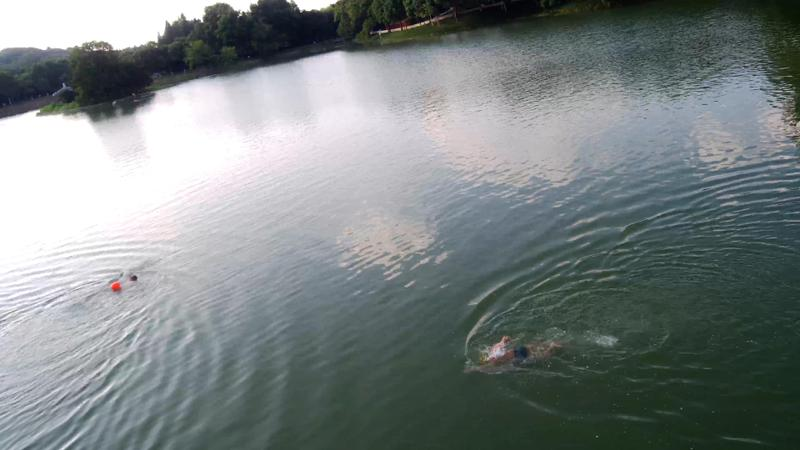swimmers: (460, 338, 562, 375), (124, 272, 140, 287)
